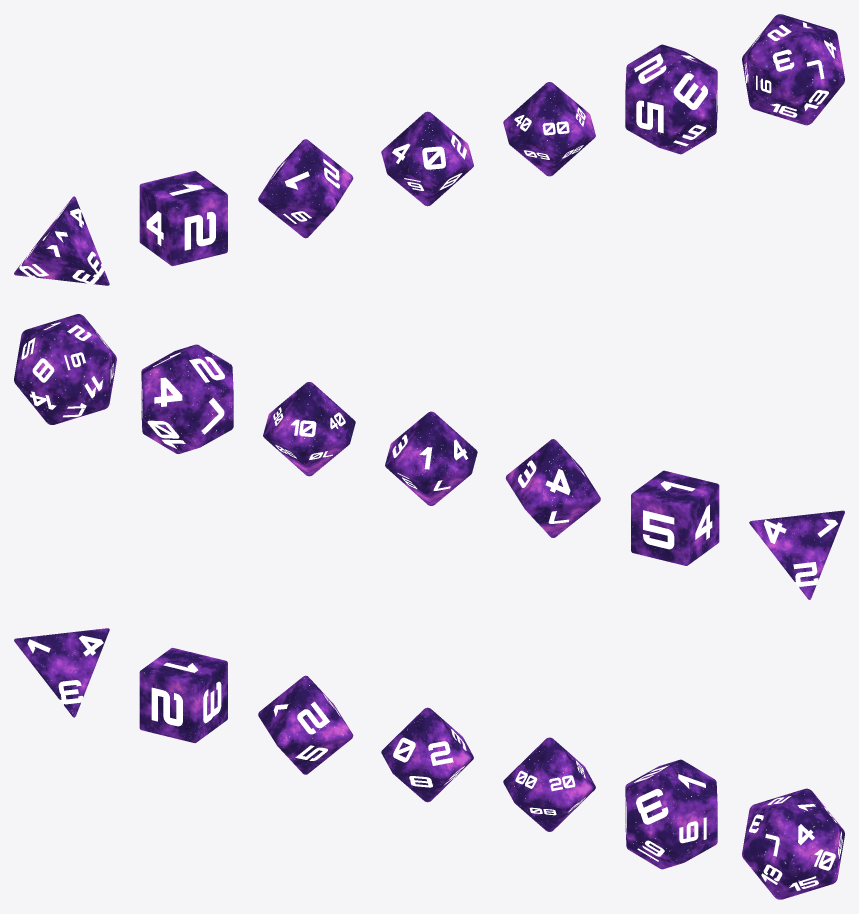
Rendered from galaxy.glb.
3 views of the same model, one above another, from view 1: azimuth 30°, elevation 25°; view 2: azimuth 150°, elevation 25°; view 3: azimuth 330°, elevation 25° (orthographic).
Visible parts, largest first — view 1: d20, d12, d6, d100, d10, d8, d4; view 2: d20, d12, d6, d100, d10, d8, d4; view 3: d20, d12, d6, d8, d10, d100, d4.
Boxes of the visible parts, bbox=[...] form: d20: bbox=[742, 14, 844, 125]; d12: bbox=[625, 44, 717, 154]; d6: bbox=[139, 171, 227, 266]; d100: bbox=[503, 82, 595, 176]; d10: bbox=[381, 111, 473, 206]; d8: bbox=[258, 139, 353, 238]; d4: bbox=[14, 196, 109, 285]; d20: bbox=[14, 314, 116, 424]; d12: bbox=[141, 344, 233, 453]; d6: bbox=[631, 470, 719, 565]; d100: bbox=[263, 382, 355, 476]; d10: bbox=[385, 411, 477, 505]; d8: bbox=[505, 439, 600, 537]; d4: bbox=[749, 510, 844, 599]; d20: bbox=[742, 788, 844, 899]; d12: bbox=[625, 759, 717, 869]; d6: bbox=[139, 647, 227, 742]; d8: bbox=[258, 675, 353, 774]; d10: bbox=[381, 707, 473, 802]; d100: bbox=[503, 737, 595, 831]; d4: bbox=[14, 628, 109, 717].
Bounding box in the file's own units: 21.14 × 2.47 × 2.47.
Materials: 14 (7 with a texture image).
